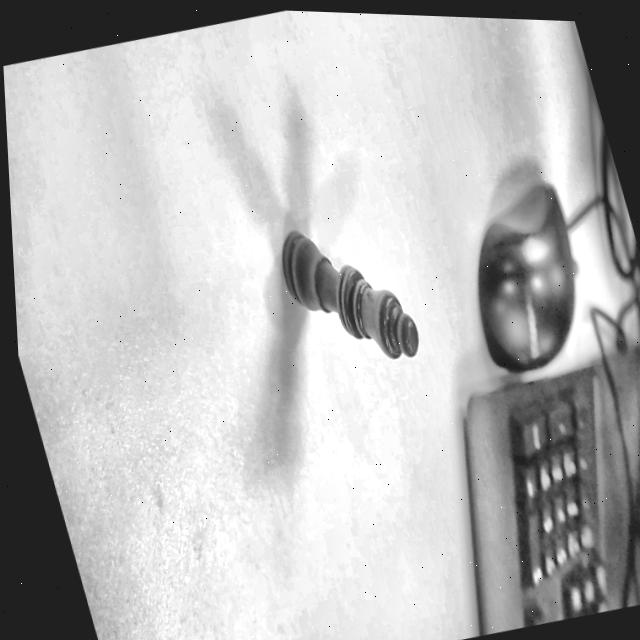black-queen: (259, 193, 434, 395)
